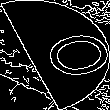O_W: (10, 25, 100, 85)
